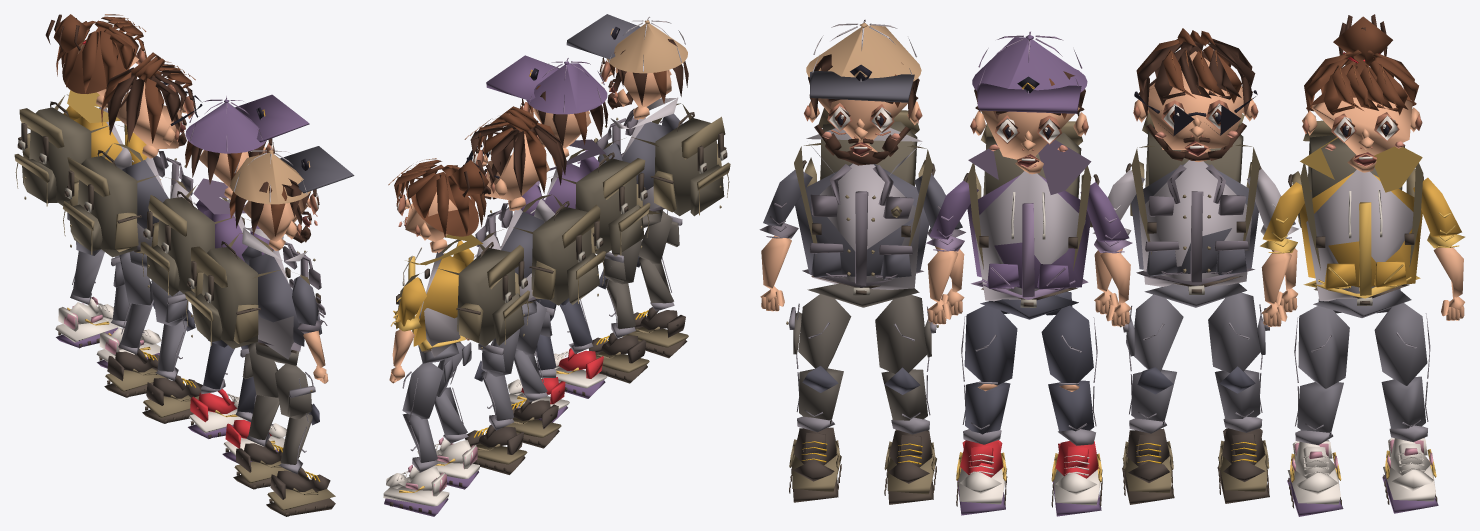
File: npc.survivor-group.lod2.glb
The picture shows the model from 3 angles, left to right: view 1: azimuth 30°, elevation 25°; view 2: azimuth 150°, elevation 25°; view 3: azimuth 270°, elevation 25°; orthographic projection. The views are drawn at different scales.
Visible parts, largest first — view 1: head, survivor03_head, survivor02_head, survivor03_backpackSocket_mesh, backpackSocket_mesh, survivor04_head, survivor04_backpackSocket_mesh, torso, survivor02_backpackSocket_mesh, survivor03_torso, footR, survivor04_footL (+23 smaller); view 2: head, survivor02_head, survivor04_head, survivor03_head, backpackSocket_mesh, survivor03_backpackSocket_mesh, survivor04_backpackSocket_mesh, survivor02_backpackSocket_mesh, survivor04_torso, torso, survivor04_footL, survivor03_torso (+25 smaller); view 3: survivor02_torso, survivor04_torso, torso, survivor03_torso, survivor03_head, head, survivor04_head, survivor02_head, survivor03_legL, legL, survivor04_legR, survivor02_legR (+41 smaller).
Part boxes in pixels (x1=…): head: x1=229, y1=146, x2=354, y2=250; survivor03_head: x1=101, y1=52, x2=202, y2=158; survivor02_head: x1=185, y1=94, x2=309, y2=199; survivor03_backpackSocket_mesh: x1=63, y1=150, x2=141, y2=257; backpackSocket_mesh: x1=185, y1=241, x2=260, y2=348; survivor04_head: x1=45, y1=14, x2=146, y2=109; survivor04_backpackSocket_mesh: x1=14, y1=101, x2=91, y2=206; torso: x1=228, y1=227, x2=325, y2=359; survivor02_backpackSocket_mesh: x1=140, y1=191, x2=214, y2=296; survivor03_torso: x1=102, y1=143, x2=193, y2=253; footR: x1=266, y1=467, x2=335, y2=516; survivor04_footL: x1=55, y1=296, x2=119, y2=348; head: x1=566, y1=14, x2=688, y2=119; survivor02_head: x1=486, y1=55, x2=608, y2=157; survivor04_head: x1=388, y1=158, x2=495, y2=252; survivor03_head: x1=464, y1=106, x2=566, y2=210; backpackSocket_mesh: x1=650, y1=112, x2=730, y2=216; survivor03_backpackSocket_mesh: x1=529, y1=201, x2=605, y2=305; survivor04_backpackSocket_mesh: x1=456, y1=242, x2=529, y2=346; survivor02_backpackSocket_mesh: x1=575, y1=152, x2=650, y2=256; survivor04_torso: x1=393, y1=234, x2=485, y2=357; torso: x1=594, y1=97, x2=691, y2=214; survivor04_footL: x1=383, y1=464, x2=449, y2=516; survivor03_torso: x1=475, y1=194, x2=564, y2=303; survivor02_torso: x1=967, y1=139, x2=1091, y2=301; survivor04_torso: x1=1299, y1=137, x2=1423, y2=301; torso: x1=794, y1=127, x2=932, y2=289; survivor03_torso: x1=1131, y1=144, x2=1259, y2=286; survivor03_head: x1=1133, y1=28, x2=1258, y2=162; head: x1=804, y1=19, x2=922, y2=165; survivor04_head: x1=1302, y1=14, x2=1422, y2=172; survivor02_head: x1=970, y1=31, x2=1088, y2=174; survivor03_legL: x1=1208, y1=292, x2=1269, y2=372; legL: x1=875, y1=294, x2=938, y2=373; survivor04_legR: x1=1294, y1=306, x2=1349, y2=388; survivor02_legR: x1=961, y1=305, x2=1017, y2=385.
Bounding box in the file's own units: 0.8547 × 1.77 × 2.48.
